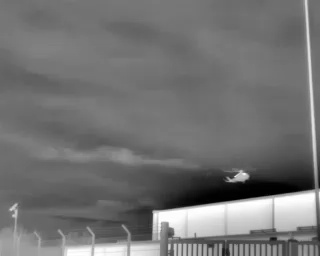HELICOPTER: (218, 163, 263, 188)
